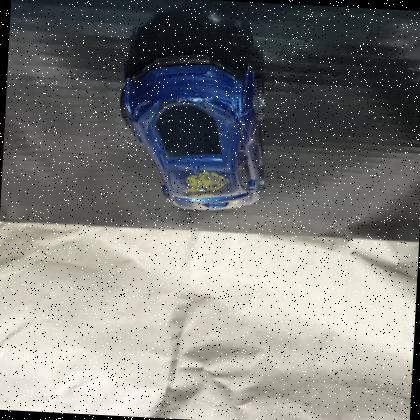Car: (120, 50, 265, 210)
